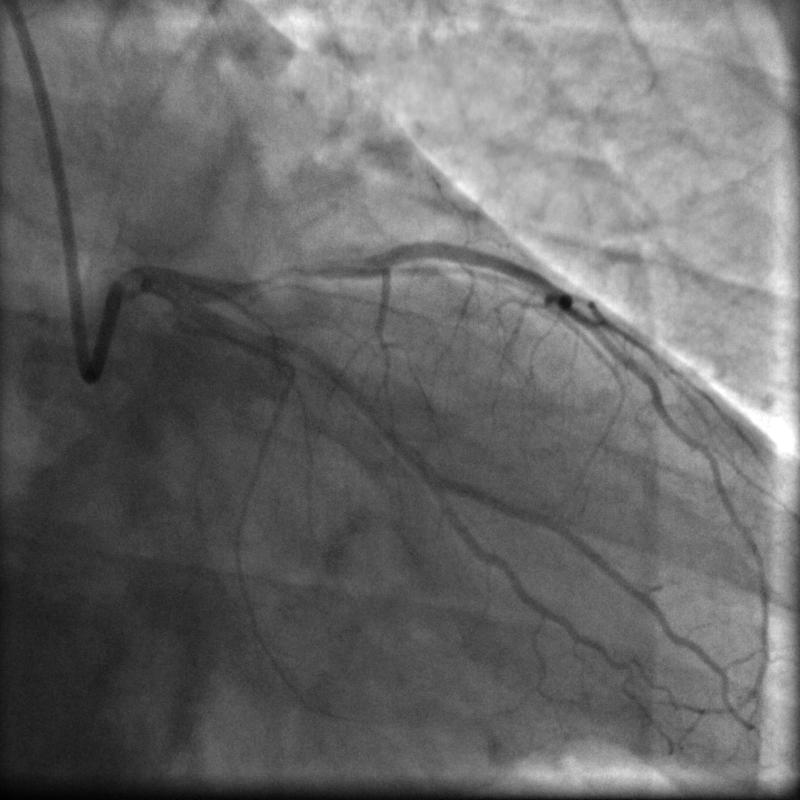Stenosis: (237, 262, 333, 291)
